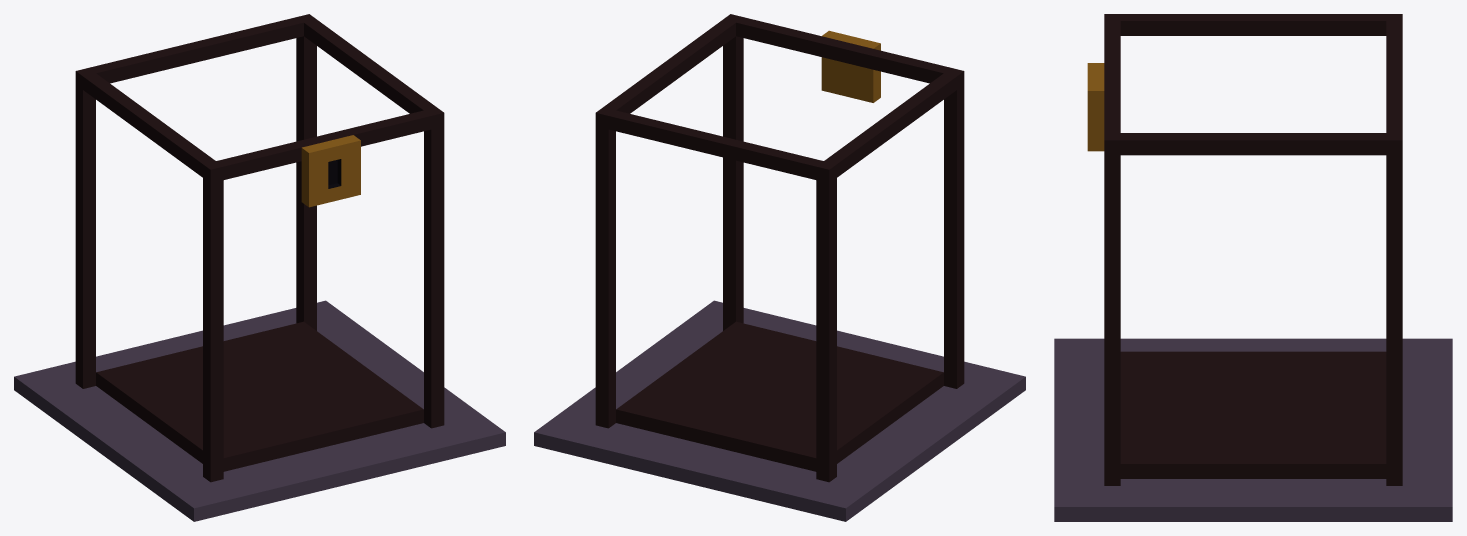
File: displayCase_broken.dae
3 views of the same model, side by side, from view 1: azimuth 30°, elevation 25°; view 2: azimuth 150°, elevation 25°; view 3: azimuth 270°, elevation 25° (orthographic). The views are drawn at different scales.
Visible parts, largest first — view 1: frame_MSH; view 2: frame_MSH; view 3: frame_MSH.
Boxes of the visible parts, box(x1,y1,x2,y2) form: frame_MSH: box(14, 14, 505, 521); frame_MSH: box(534, 14, 1025, 521); frame_MSH: box(1054, 14, 1452, 521).
Size of the model in its own units: 1 by 1 by 1.
